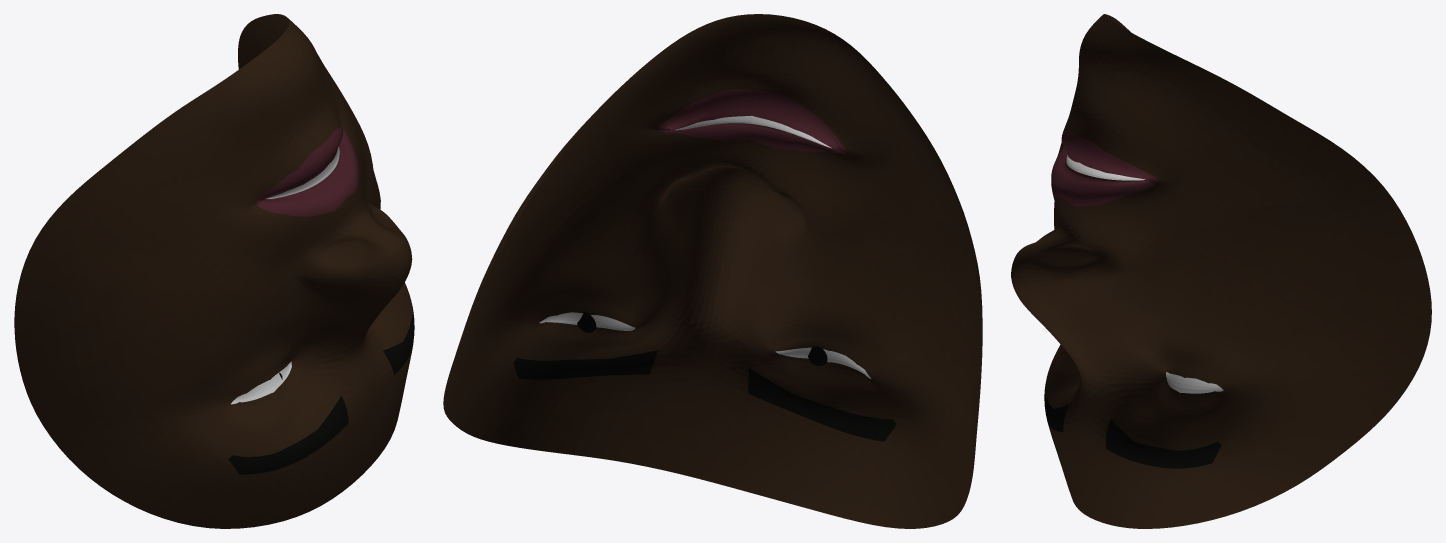
The model's file is frame_00176.obj.
3 renders of one model, left to right at view 1: azimuth 30°, elevation 25°; view 2: azimuth 150°, elevation 25°; view 3: azimuth 270°, elevation 25°, orthographic. The views are drawn at different scales.
Parts seen in each view (by area): view 1: face_mesh_subdivided; view 2: face_mesh_subdivided; view 3: face_mesh_subdivided.
Boxes of the visible parts, x1,y1,x2,y2 form: face_mesh_subdivided: (14,14,414,528); face_mesh_subdivided: (443,14,982,528); face_mesh_subdivided: (1011,14,1431,528).
Size of the model in its own units: 0.4989 by 0.5379 by 0.4359.
